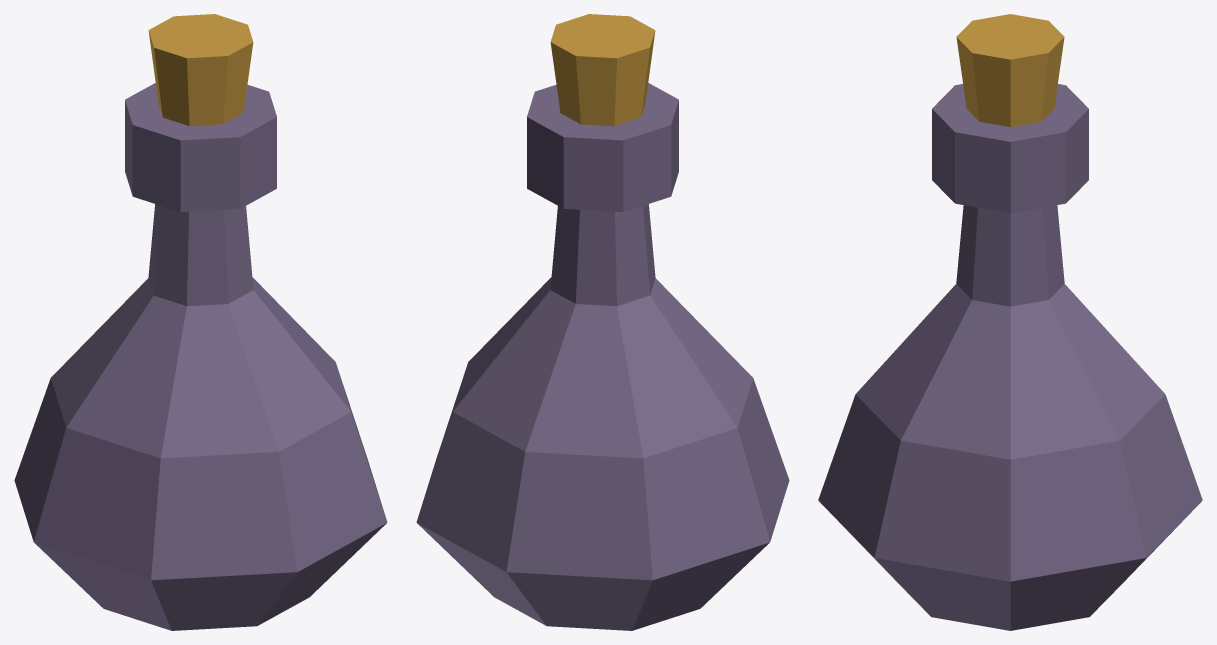
File: Bottle.fbx
The picture shows the model from 3 angles, left to right: view 1: azimuth 30°, elevation 25°; view 2: azimuth 150°, elevation 25°; view 3: azimuth 270°, elevation 25°; orthographic projection.
Visible parts, largest first — view 1: Bottle; view 2: Bottle; view 3: Bottle.
Boxes of the visible parts, <box> form: Bottle: <box>14,14,387,630</box>; Bottle: <box>416,14,789,630</box>; Bottle: <box>818,14,1202,630</box>.
Bounding box in the file's own units: 13.32 × 20.88 × 13.32.
